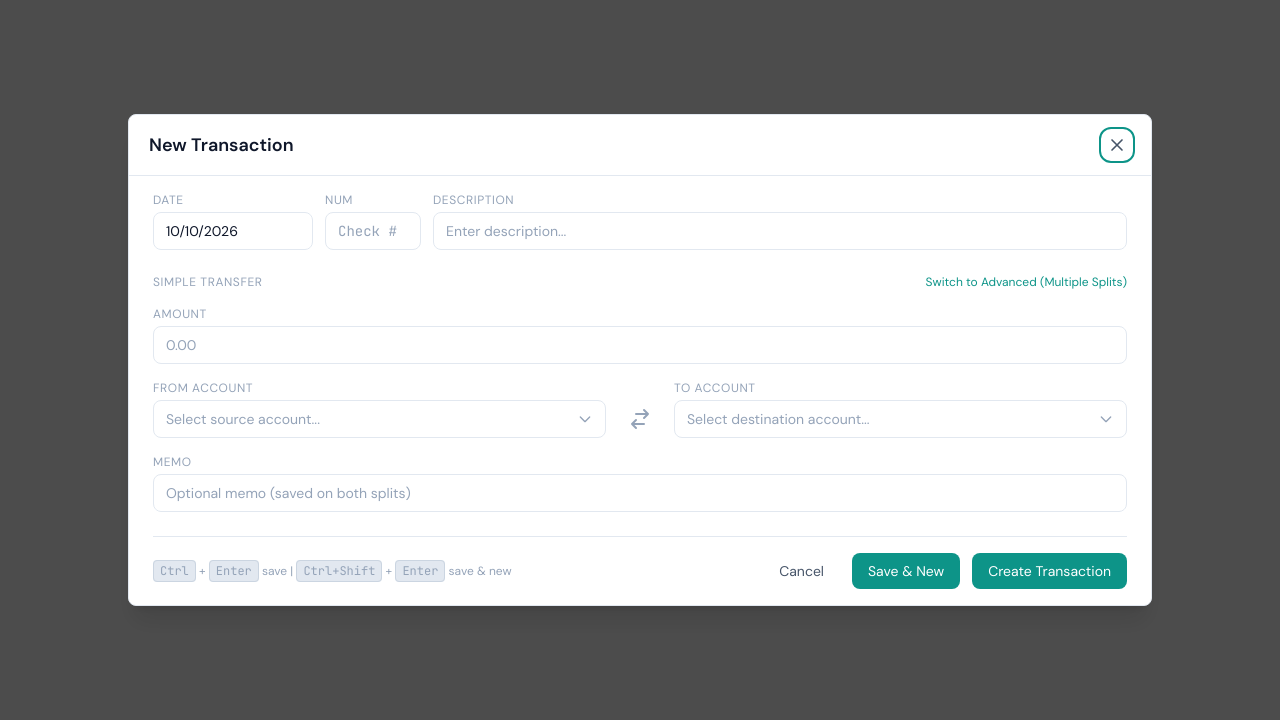
Test: TransactionFormModal escape guard — new transaction › (b) Escape does not close once an amount has been typed, and the work survives
Type "25.00" into the field with placeholder "0.00" at coordinates (640, 345), box [153,326,1127,364]
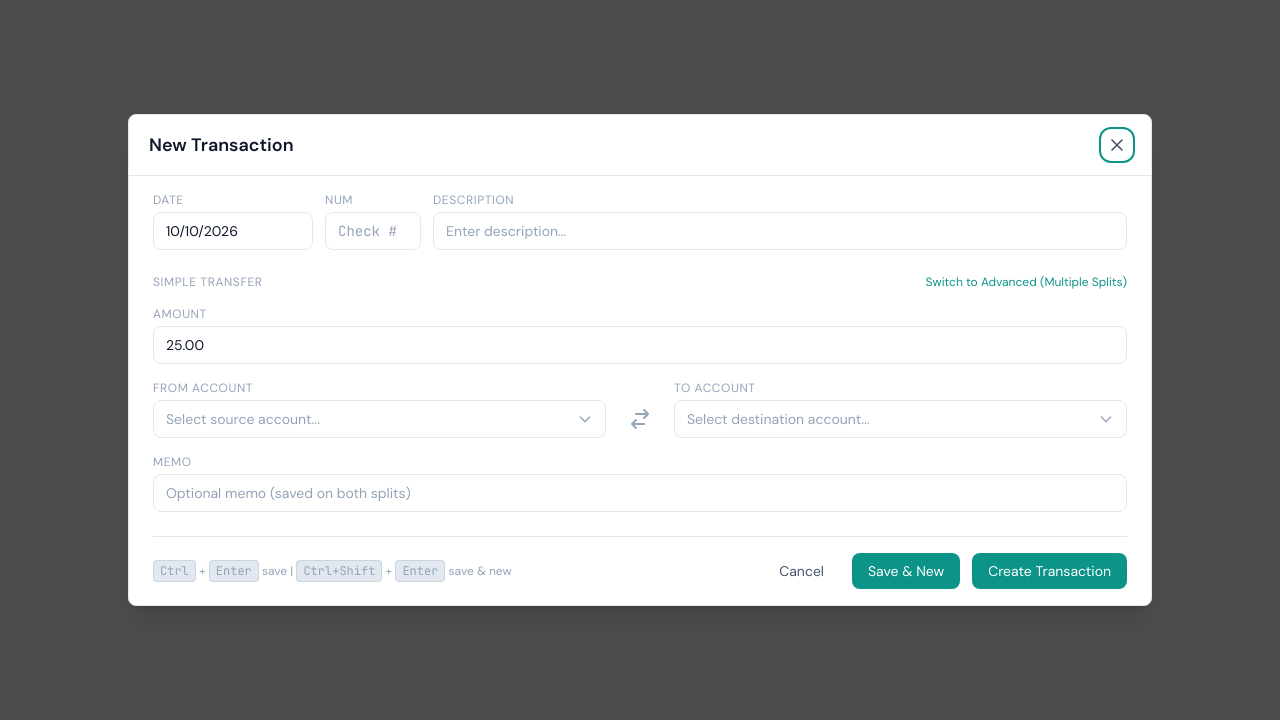
Press Escape
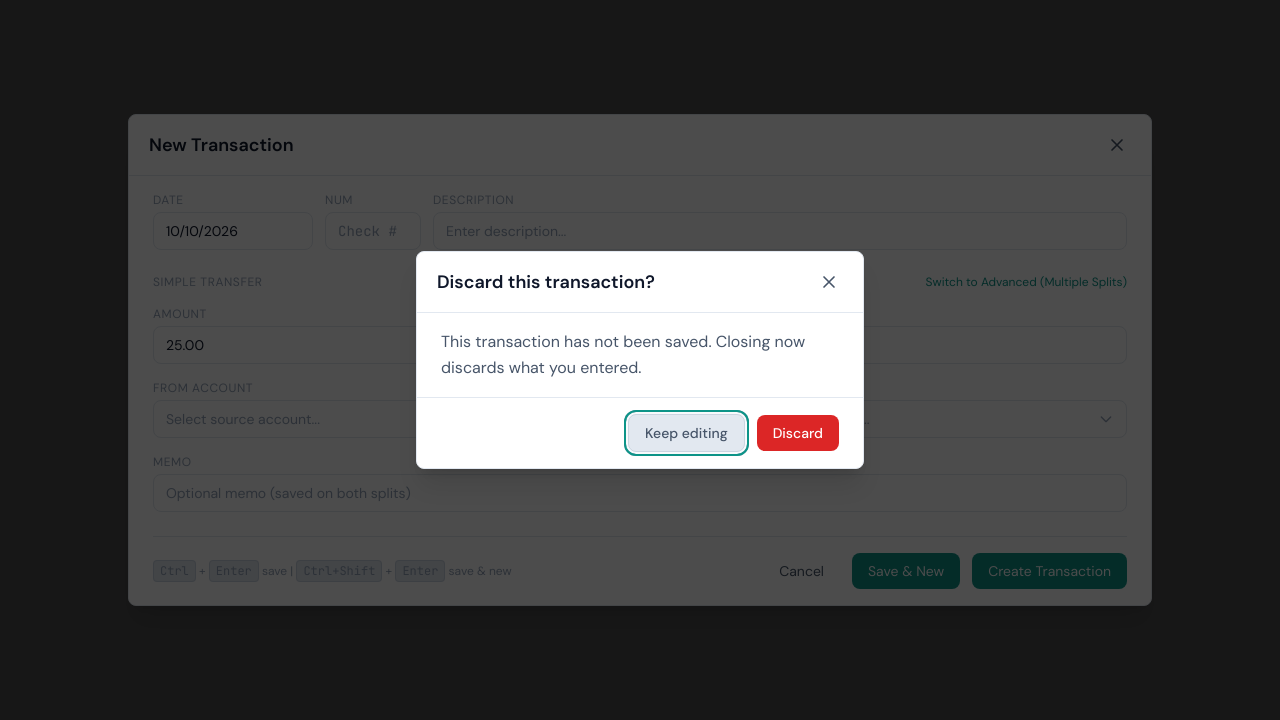
Result: the heading "Discard this transaction?" is shown at [437,268,655,296]
